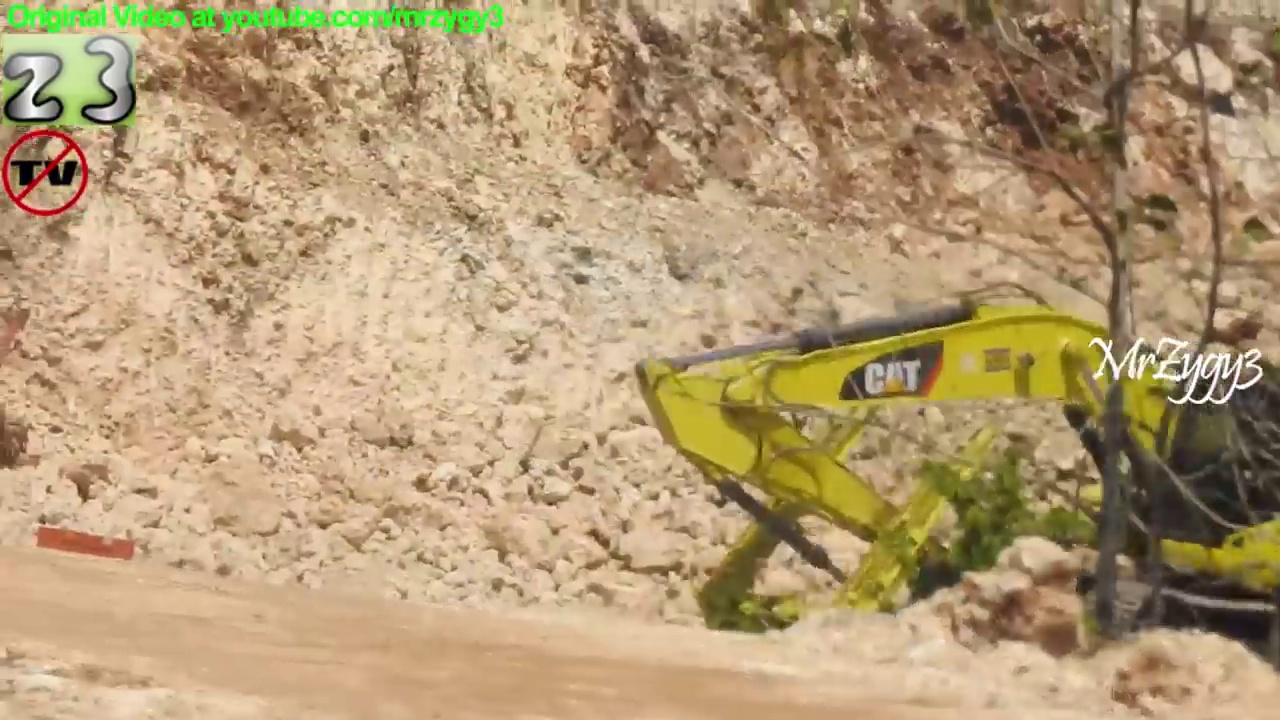excavator: (630, 278, 1280, 681)
